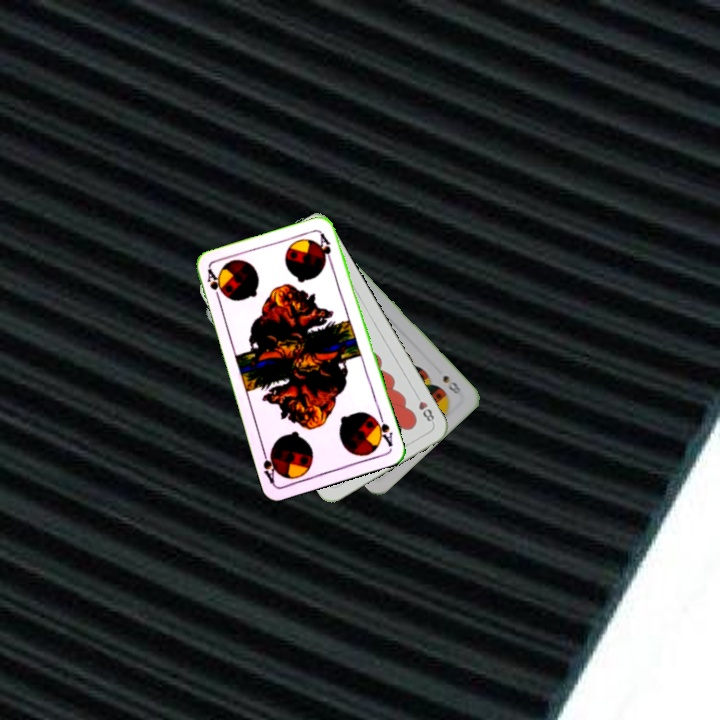H8: (411, 389, 437, 426)
S8: (438, 371, 464, 397)
SA: (370, 410, 395, 449), (203, 265, 226, 305)
